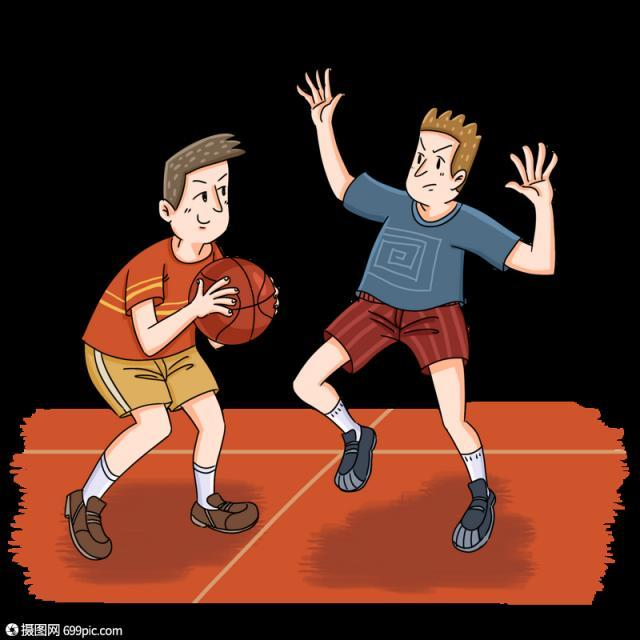rim: (188, 256, 280, 346)
